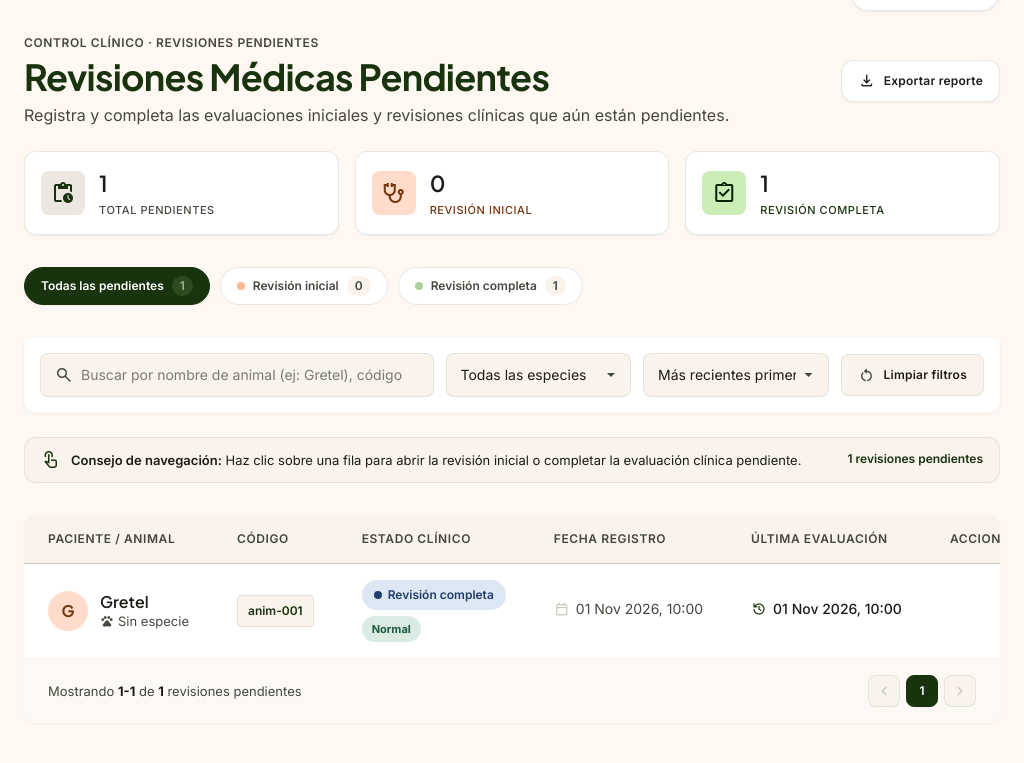
Test: RegistroMedicoPage › cierra la corrección de revisión inicial dentro del modal
(page scrolled)
Click the button with aria-label "Ver ficha médica de Gretel anim-001" at point(68, 611), box x1=24 y1=563 x2=1023 y2=658
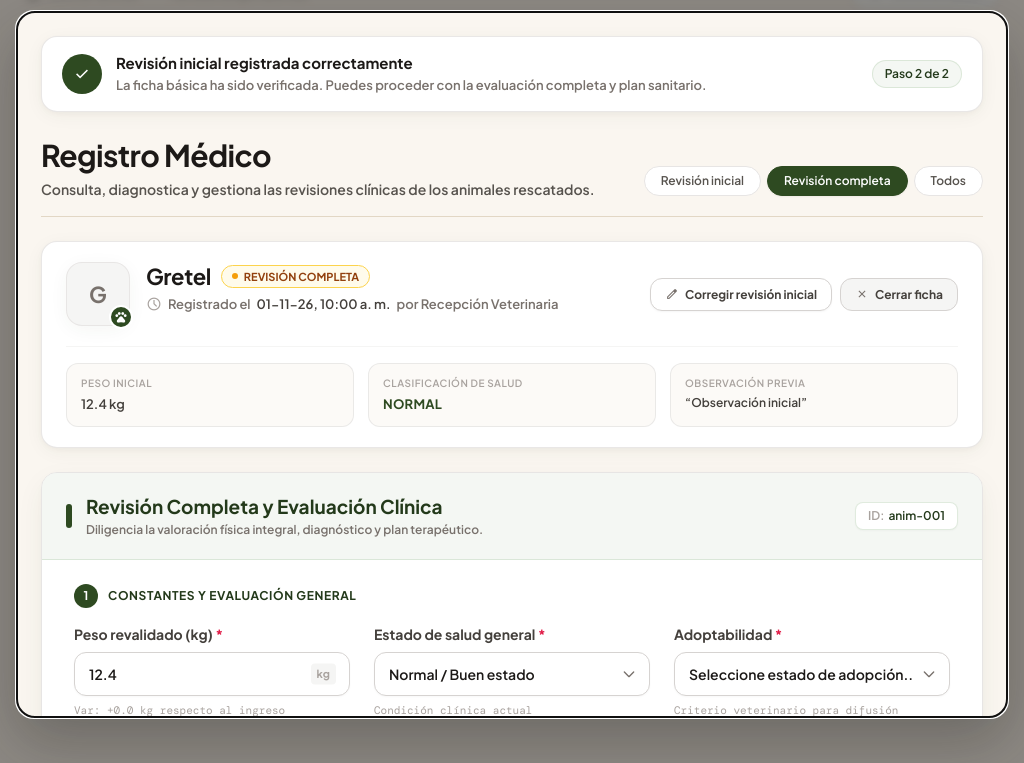
Expected: the button "Corregir revisión inicial" is shown
Click the button "Corregir revisión inicial" at point(741, 294), box x1=650 y1=278 x2=832 y2=311
(page scrolled)
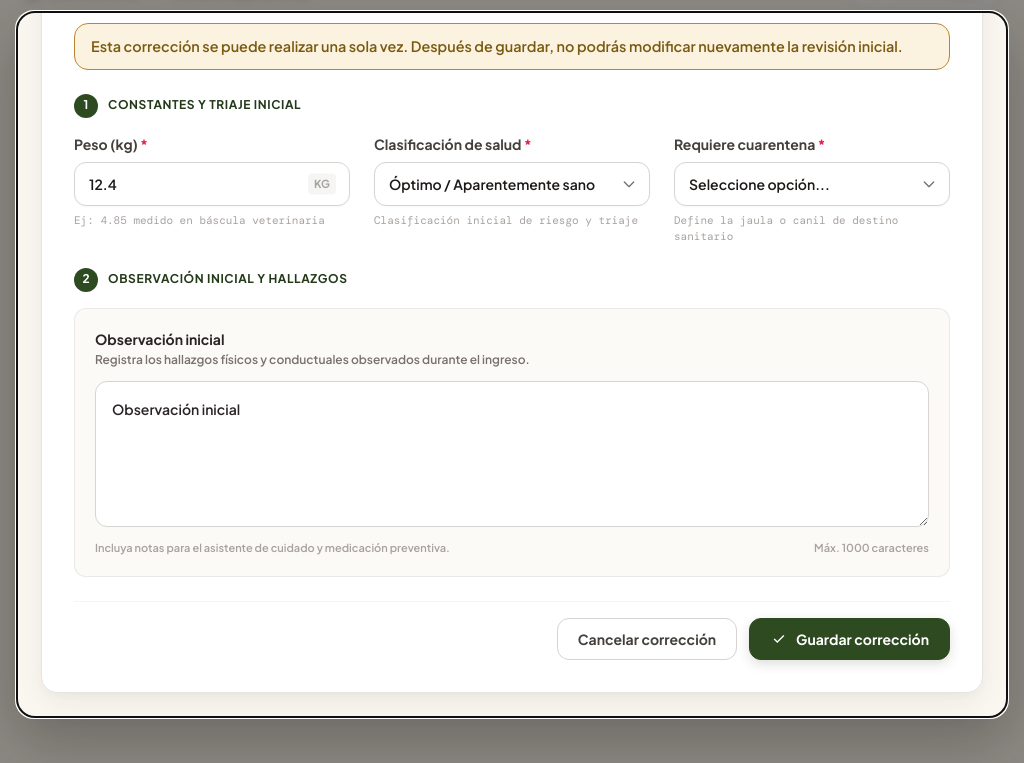
Expected: the button "Cancelar corrección" is shown
Click the button "Cancelar corrección" at point(647, 639), box x1=557 y1=618 x2=737 y2=660
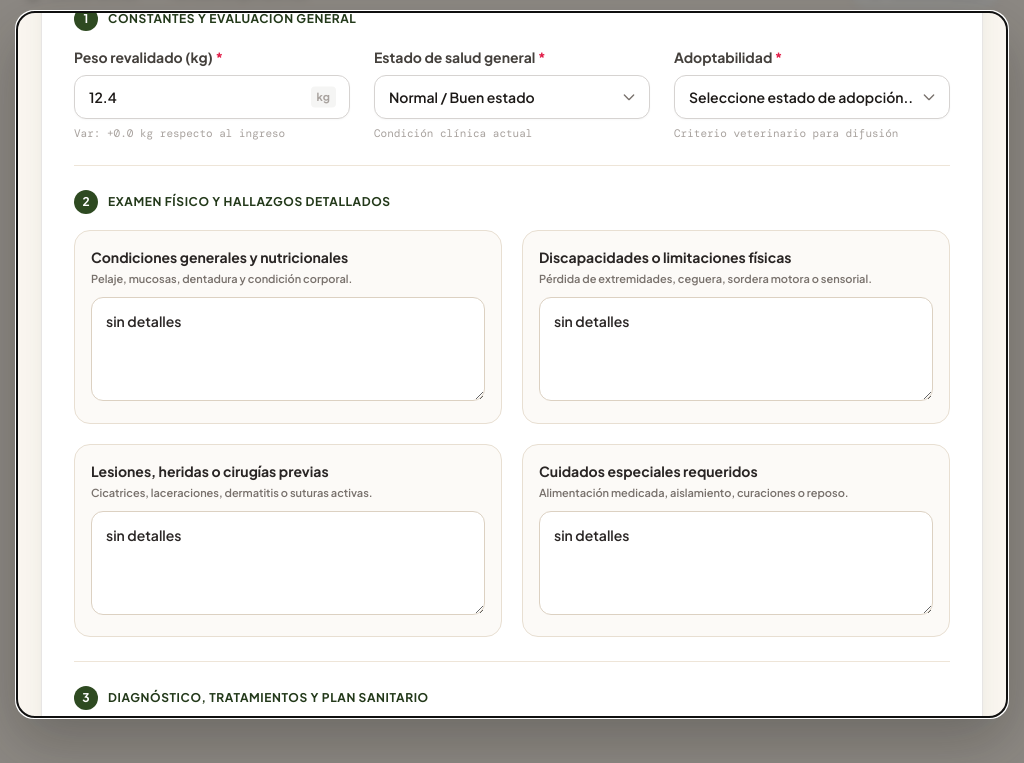
Expected: the button "Cancelar corrección" is gone
